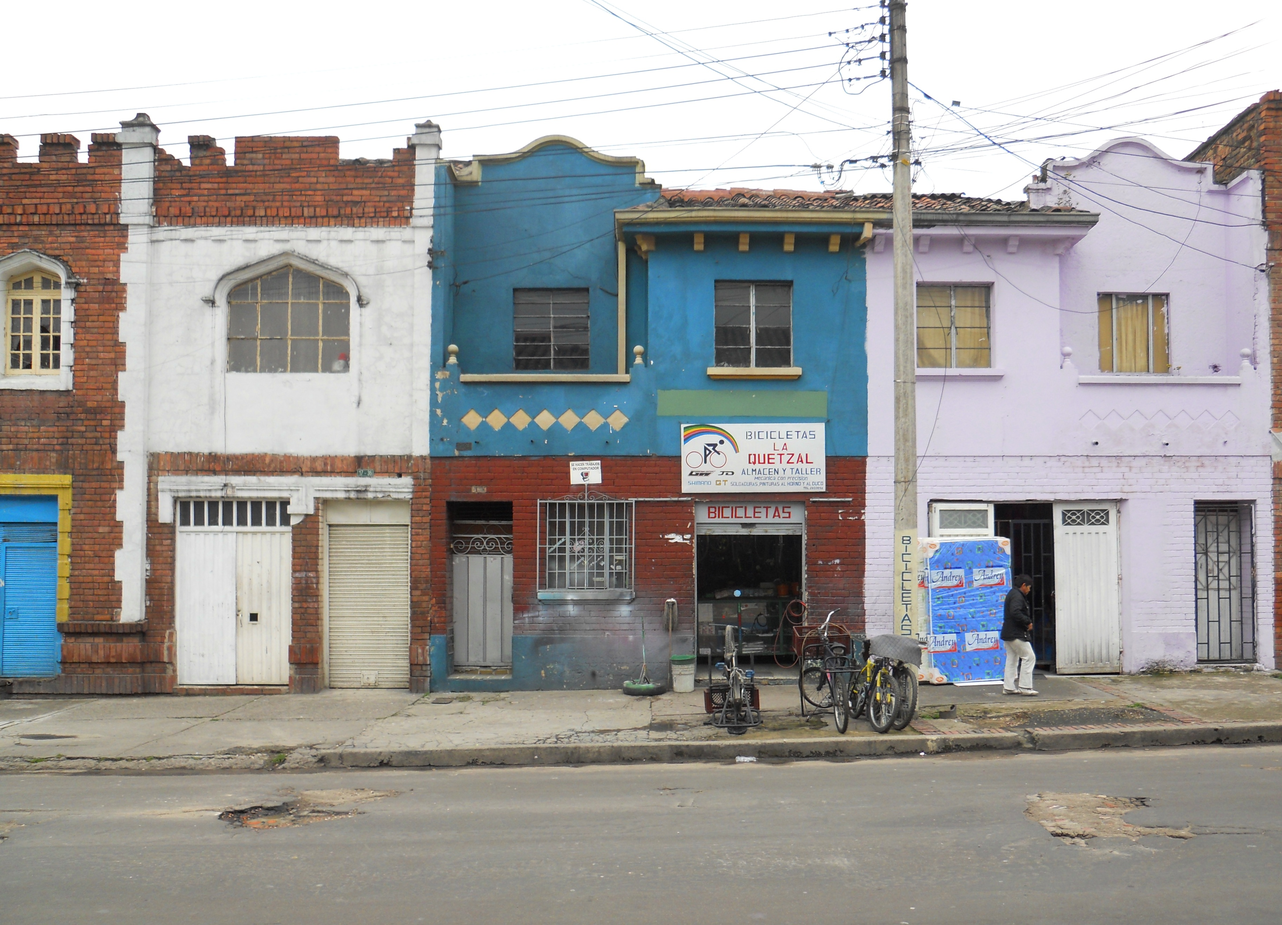House: (1, 121, 422, 702), (432, 146, 860, 694), (881, 148, 1279, 679)
